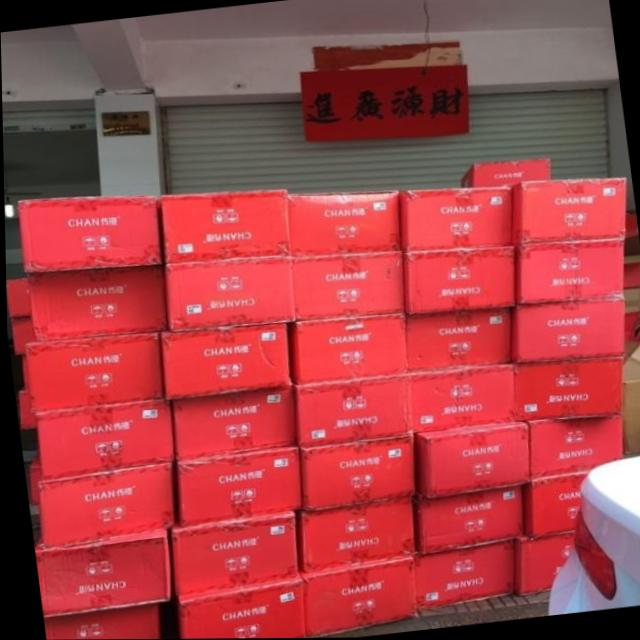box: (17, 193, 166, 277), (33, 526, 171, 616), (33, 461, 176, 546), (165, 508, 299, 598), (22, 331, 165, 414), (23, 263, 167, 343), (34, 401, 173, 475), (164, 384, 298, 460), (159, 322, 291, 399), (408, 421, 529, 502), (150, 193, 287, 261), (167, 256, 289, 332), (173, 451, 300, 524), (292, 371, 412, 448), (299, 559, 416, 637), (295, 497, 410, 573), (281, 189, 404, 257), (289, 314, 410, 383), (171, 576, 303, 639), (504, 179, 625, 247), (301, 435, 413, 507), (287, 252, 405, 320), (408, 541, 518, 613), (415, 485, 524, 557), (398, 247, 514, 314), (408, 360, 512, 434), (506, 357, 621, 422), (521, 415, 623, 487), (400, 189, 513, 252), (511, 240, 622, 302), (514, 301, 624, 363), (407, 308, 512, 372), (42, 602, 159, 640), (515, 531, 578, 597), (523, 473, 579, 538), (459, 157, 548, 192)
